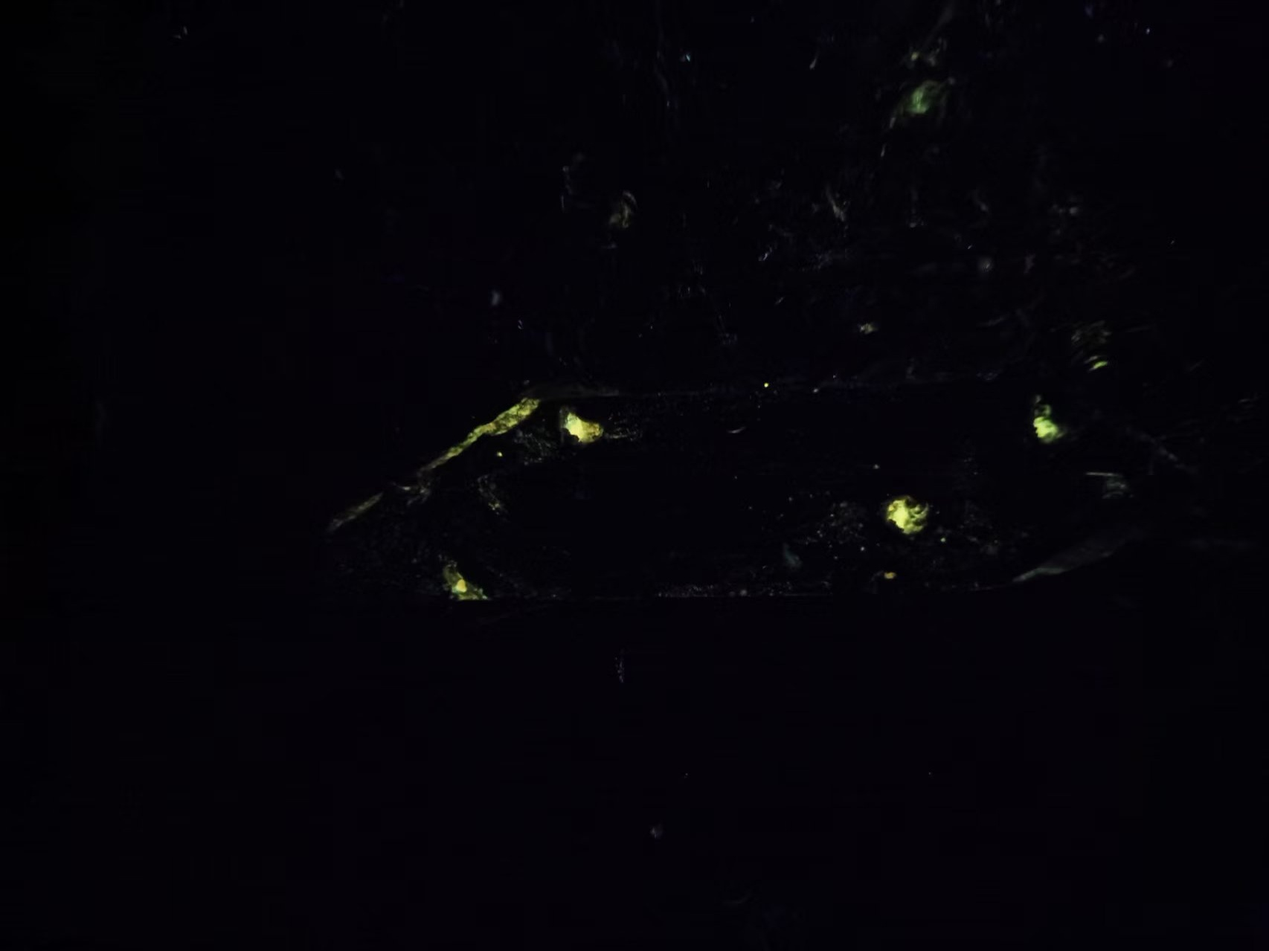Crater: (543, 388, 624, 465), (1019, 388, 1094, 465), (857, 484, 950, 545), (422, 546, 511, 609)
